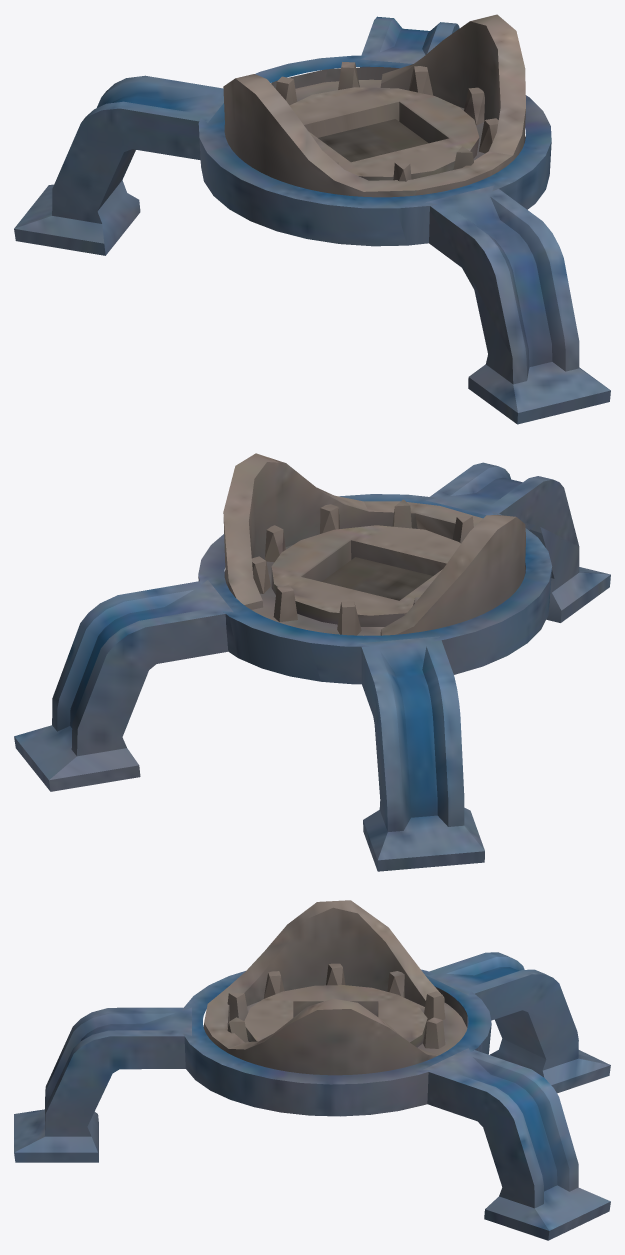
The model's file is fast-inserter-south.glb.
3 renders of one model, top to bottom at view 1: azimuth 30°, elevation 25°; view 2: azimuth 150°, elevation 25°; view 3: azimuth 270°, elevation 25°, orthographic. The views are drawn at different scales.
Visible parts, largest first — view 1: body; view 2: body; view 3: body.
Part boxes in pixels (x1,y1,x2,y2): body: [14, 14, 610, 424]; body: [14, 453, 610, 871]; body: [14, 900, 610, 1240].
Size of the model in its own units: 0.9131 by 0.415 by 1.18.
1 material, 1 textured.
